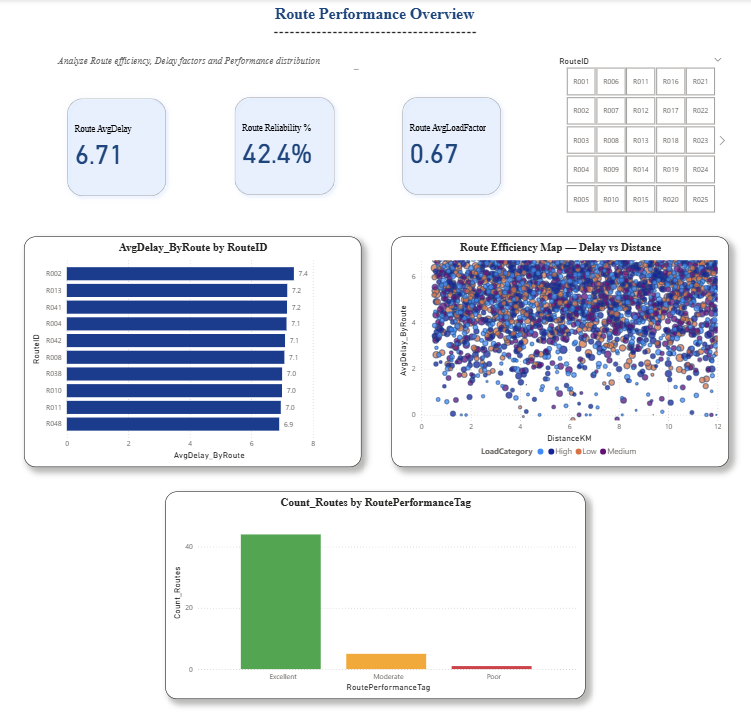

The dashboard page shown, as its layout file describes it:
{"tool":"powerbi","page":{"name":"Route Performance","canvas":[1280,1230],"ordinal":1},"visuals":[{"type":"textbox","box":[457.8,0,363.2,44.8],"z":0},{"type":"slicer","fields":{"Values":["transport_cleaned.RouteID"]},"box":[939.3,91.4,301.8,278.4],"z":1000},{"type":"cardVisual","fields":{"Data":["KPI_Measures.Route_AvgDelay"]},"box":[93.9,146.2,212.5,210.4],"z":2000},{"type":"cardVisual","fields":{"Data":["KPI_Measures.Route_ReliabilityPct"]},"box":[377.6,144.1,214.6,210.4],"z":3000},{"type":"cardVisual","fields":{"Data":["KPI_Measures.Route_AvgLoadFactor"]},"box":[663.5,144.1,212.5,210.4],"z":4000},{"type":"clusteredBarChart","title":"AvgDelay_ByRoute by RouteID","fields":{"Y":["KPI_Measures.AvgDelay_ByRoute"],"Category":["transport_cleaned.RouteID"]},"box":[43.3,403.3,573.3,391.7],"z":5000},{"type":"scatterChart","title":"Route Efficiency Map — Delay vs Distance","fields":{"Size":["Sum(transport_cleaned.Capacity)"],"Y":["KPI_Measures.AvgDelay_ByRoute"],"Series":["transport_cleaned.LoadCategory"],"X":["transport_cleaned.DistanceKM"]},"box":[668.3,403.3,573.3,391.7],"z":6000},{"type":"clusteredColumnChart","fields":{"Y":["transport_cleaned.Count_Routes"],"Category":["transport_cleaned.RoutePerformanceTag"]},"box":[283,837.3,714,352.8],"z":7000},{"type":"textbox","title":"--------------------------------------","box":[461.1,44.6,359.1,46.8],"z":8000},{"type":"textbox","box":[29.8,91.4,586.5,34],"z":9000}]}

Visuals, with their boxes in screenshot pixels (x1, y1, x2, y2), scaled from the page's 1280x1230 canvas onto the 751x720 screenshot:
textbox: 269 0 482 26
slicer - transport_cleaned.RouteID: 551 54 728 216
cardVisual - KPI_Measures.Route_AvgDelay: 55 86 180 209
cardVisual - KPI_Measures.Route_ReliabilityPct: 222 84 347 208
cardVisual - KPI_Measures.Route_AvgLoadFactor: 389 84 514 208
"AvgDelay_ByRoute by RouteID" clusteredBarChart: 25 236 362 465
"Route Efficiency Map — Delay vs Distance" scatterChart: 392 236 728 465
clusteredColumnChart - transport_cleaned.Count_Routes x transport_cleaned.RoutePerformanceTag: 166 490 585 697
"--------------------------------------" textbox: 271 26 481 54
textbox: 17 54 362 73
